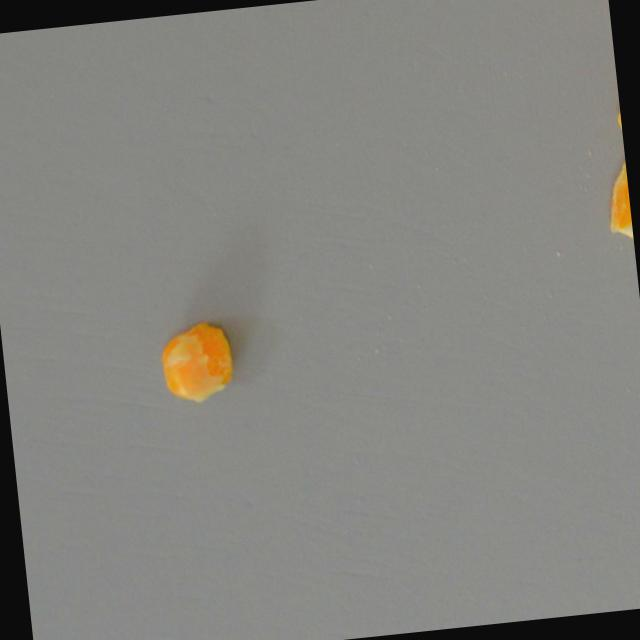pelicula: (154, 315, 238, 408), (601, 147, 634, 247)
